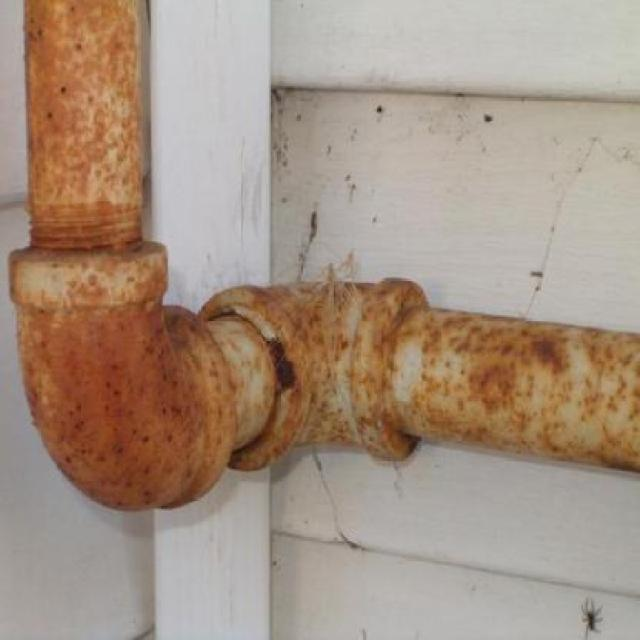corrosion: (9, 0, 640, 509)
